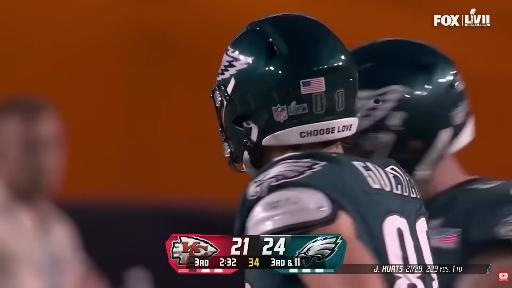Helmet: (211, 14, 357, 171), (346, 39, 474, 180)
Jersey: (235, 152, 432, 264), (426, 178, 511, 264)
Player: (212, 14, 432, 264), (347, 39, 511, 287)
